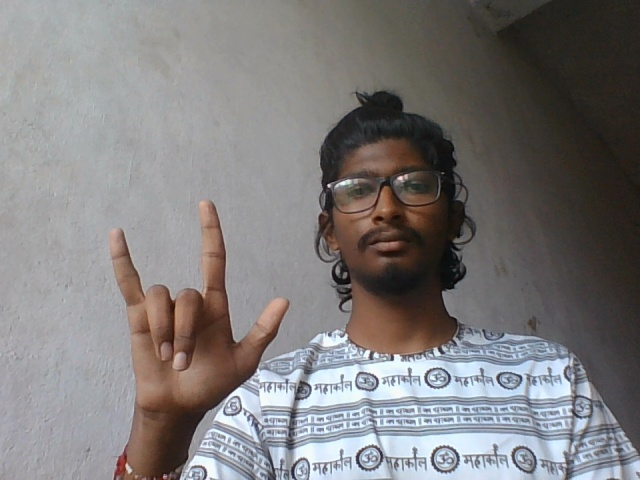House: (101, 200, 292, 429)
